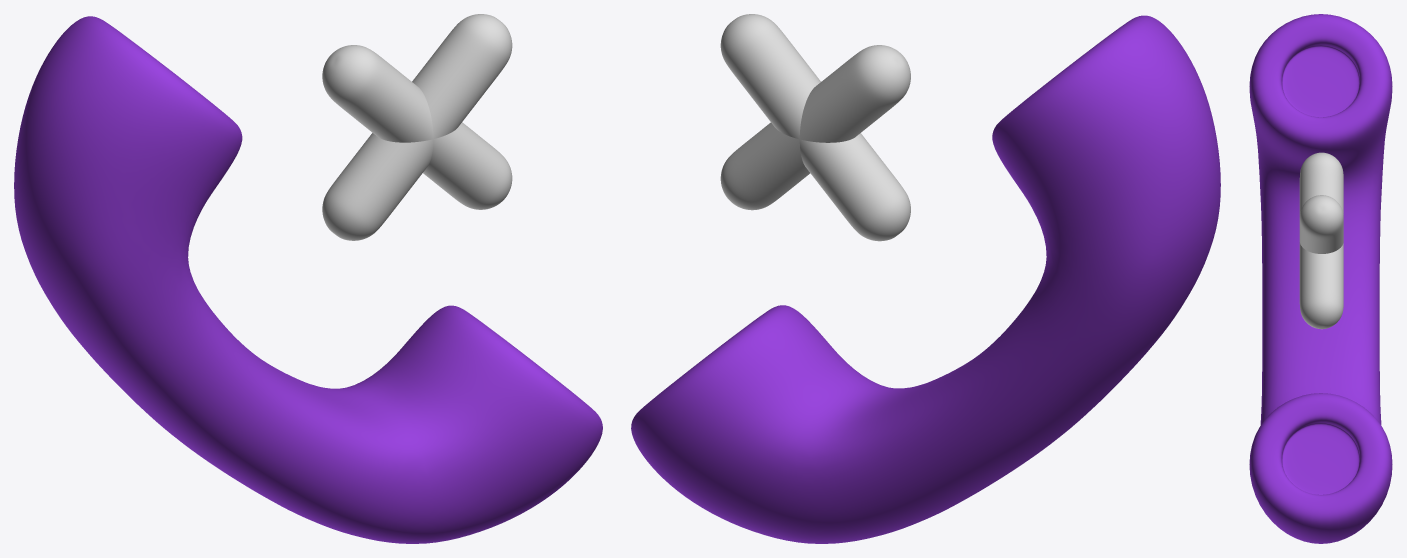
The model's file is call-end.glb.
3 renders of one model, left to right at view 1: azimuth 30°, elevation 25°; view 2: azimuth 150°, elevation 25°; view 3: azimuth 270°, elevation 25°, orthographic. The views are drawn at different scales.
Parts seen in each view (by area): view 1: Phone End; view 2: Phone End; view 3: Phone End.
Part boxes in pixels (x1,y1,x2,y2): Phone End: (14, 14, 602, 543); Phone End: (631, 14, 1220, 543); Phone End: (1249, 14, 1392, 543).
Bounding box in the file's own units: 1.77 × 1.77 × 0.5744.
